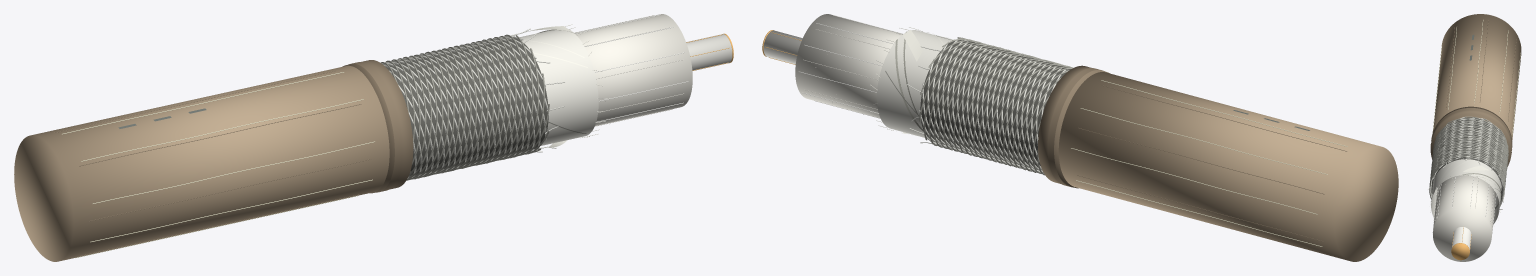
File: rf-multiflex141-macro.glb
3 views of the same model, side by side, from view 1: azimuth 30°, elevation 25°; view 2: azimuth 150°, elevation 25°; view 3: azimuth 270°, elevation 25° (orthographic). The views are drawn at different scales.
Visible parts, largest first — view 1: macro jacket body, shadow seen through braid windows, macro dielectric exposed core, continuous foil sleeve under braid, thick jacket cut wall, polished solid center conductor, rounded jacket cut lip, macro braid shadow carrier 06 strand 1, macro braid shadow carrier 11 strand 1, macro braid shadow carrier 05 strand 1, macro braid shadow carrier 09 strand 1, macro braid shadow carrier 10 strand 1 (+7 smaller); view 2: macro jacket body, shadow seen through braid windows, macro dielectric exposed core, continuous foil sleeve under braid, thick jacket cut wall, polished solid center conductor, rounded jacket cut lip, macro braid shadow carrier 03 strand 1, macro braid shadow carrier 06 strand 1, macro braid shadow carrier 02 strand 1, macro braid shadow carrier 12 strand 1, macro braid shadow carrier 01 strand 1 (+8 smaller); view 3: macro jacket body, macro dielectric exposed core, continuous foil sleeve under braid, thick jacket cut wall, shadow seen through braid windows, polished solid center conductor, macro braid shadow carrier 08 strand 2, macro braid shadow carrier 11 strand 2, macro braid shadow carrier 05 strand 2, macro braid shadow carrier 09 strand 2, macro braid shadow carrier 06 strand 2, macro braid shadow carrier 07 strand 2 (+42 smaller).
Part boxes in pixels (x1,y1,x2,y2): macro jacket body: [14, 65, 389, 261]; shadow seen through braid windows: [385, 37, 548, 176]; macro dielectric exposed core: [575, 14, 692, 125]; continuous foil sleeve under braid: [519, 29, 598, 145]; thick jacket cut wall: [342, 60, 413, 193]; polished solid center conductor: [686, 34, 732, 70]; rounded jacket cut lip: [348, 62, 402, 192]; macro braid shadow carrier 06 strand 1: [424, 36, 521, 177]; macro braid shadow carrier 11 strand 1: [391, 44, 549, 171]; macro braid shadow carrier 05 strand 1: [418, 37, 516, 178]; macro braid shadow carrier 09 strand 1: [381, 47, 538, 172]; macro braid shadow carrier 10 strand 1: [386, 45, 544, 172]; macro jacket body: [1058, 72, 1398, 261]; shadow seen through braid windows: [920, 40, 1069, 170]; macro dielectric exposed core: [795, 14, 902, 118]; continuous foil sleeve under braid: [877, 30, 952, 137]; thick jacket cut wall: [1038, 65, 1109, 188]; polished solid center conductor: [763, 30, 802, 64]; rounded jacket cut lip: [1047, 68, 1104, 187]; macro braid shadow carrier 03 strand 1: [928, 45, 1061, 162]; macro braid shadow carrier 06 strand 1: [920, 41, 1040, 173]; macro braid shadow carrier 02 strand 1: [934, 46, 1057, 163]; macro braid shadow carrier 12 strand 1: [943, 49, 1068, 166]; macro braid shadow carrier 01 strand 1: [939, 47, 1061, 164]; macro jacket body: [1432, 14, 1521, 140]; macro dielectric exposed core: [1433, 175, 1496, 261]; continuous foil sleeve under braid: [1431, 159, 1501, 224]; thick jacket cut wall: [1430, 106, 1512, 166]; shadow seen through braid windows: [1431, 118, 1502, 201]; polished solid center conductor: [1451, 227, 1471, 249]; macro braid shadow carrier 08 strand 2: [1430, 116, 1507, 179]; macro braid shadow carrier 11 strand 2: [1429, 121, 1507, 199]; macro braid shadow carrier 05 strand 2: [1431, 131, 1508, 196]; macro braid shadow carrier 09 strand 2: [1429, 118, 1507, 183]; macro braid shadow carrier 06 strand 2: [1431, 128, 1508, 180]; macro braid shadow carrier 07 strand 2: [1430, 118, 1508, 177].
Size of the model in its own units: 6.46 by 1.1 by 1.27.
